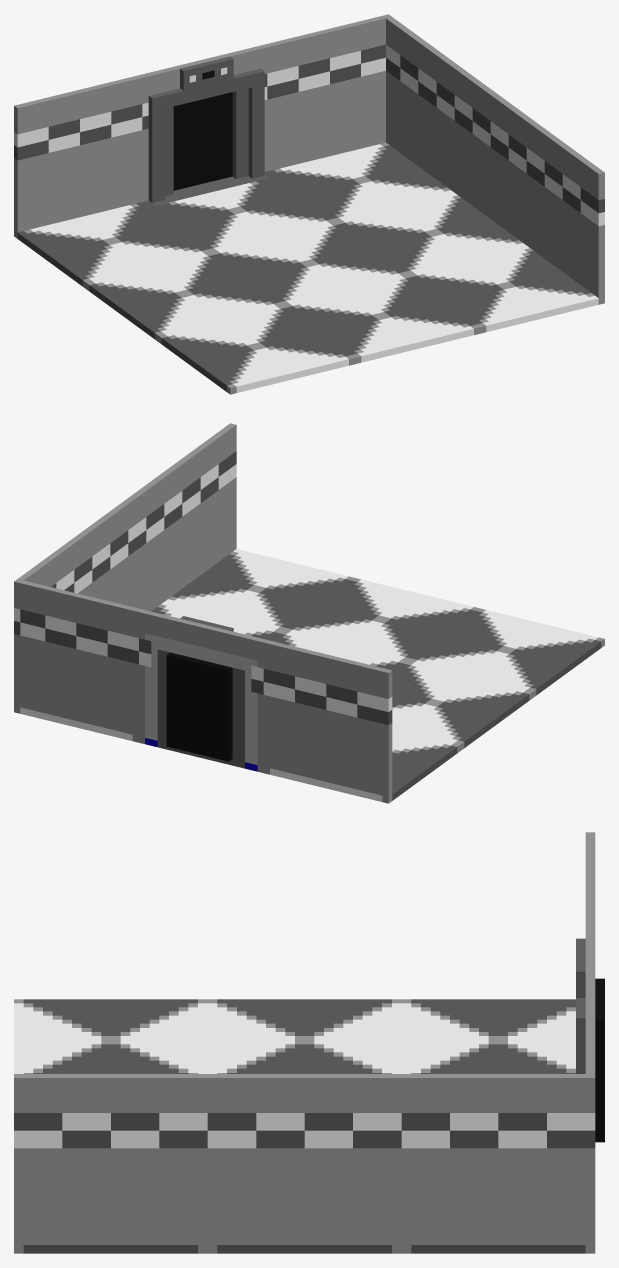
Rendered from level_maze-0.obj.
3 views of the same model, one above another, from view 1: azimuth 30°, elevation 25°; view 2: azimuth 150°, elevation 25°; view 3: azimuth 270°, elevation 25° (orthographic). The views are drawn at different scales.
Parts seen in each view (by area): view 1: level_maze-0; view 2: level_maze-0; view 3: level_maze-0.
Part boxes in pixels (x1,y1,x2,y2): level_maze-0: (14, 14, 604, 394); level_maze-0: (14, 423, 604, 803); level_maze-0: (14, 832, 604, 1253).
Size of the model in its own units: 60 by 20 by 61.
Materials: 1 (1 with a texture image).
